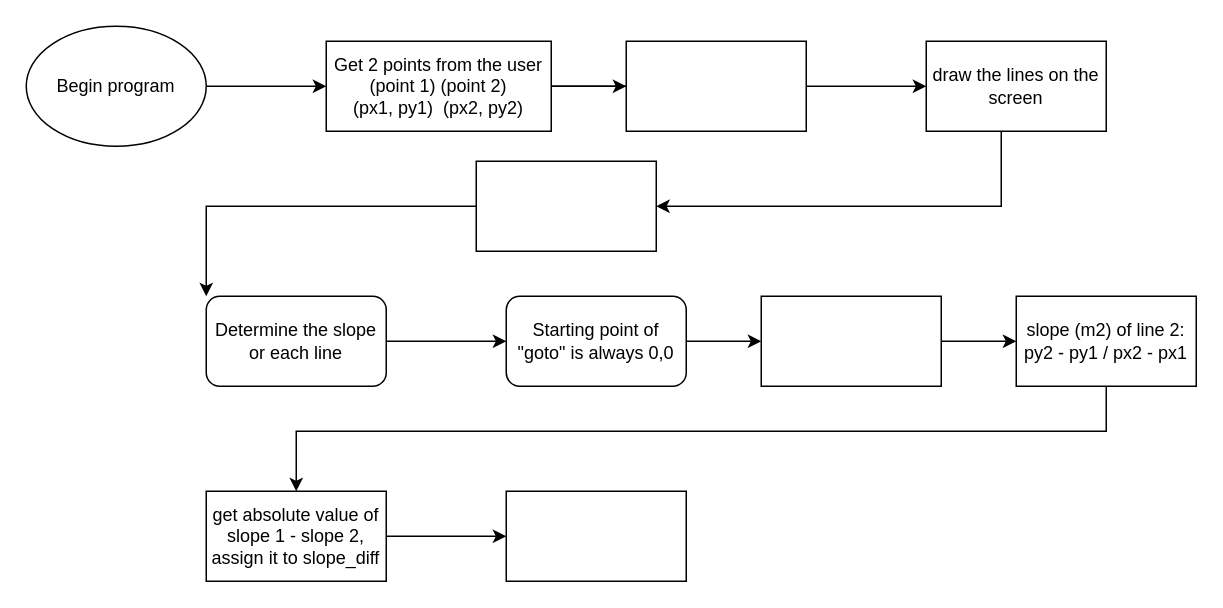
The diagram is 1223 pixels wide and 608 high, and some of its shapes have lost their labels. The box of each missing label's shape, as (x1, y1, x2, y2) in pixels:
angle = slope_diff /: (505, 490, 686, 581)
calculate the acute angle: (475, 160, 656, 251)
Convert input to integers: (625, 40, 806, 131)
slope (m1) of ine 1: py1 - 0 / px1 - 0: (760, 295, 941, 386)
